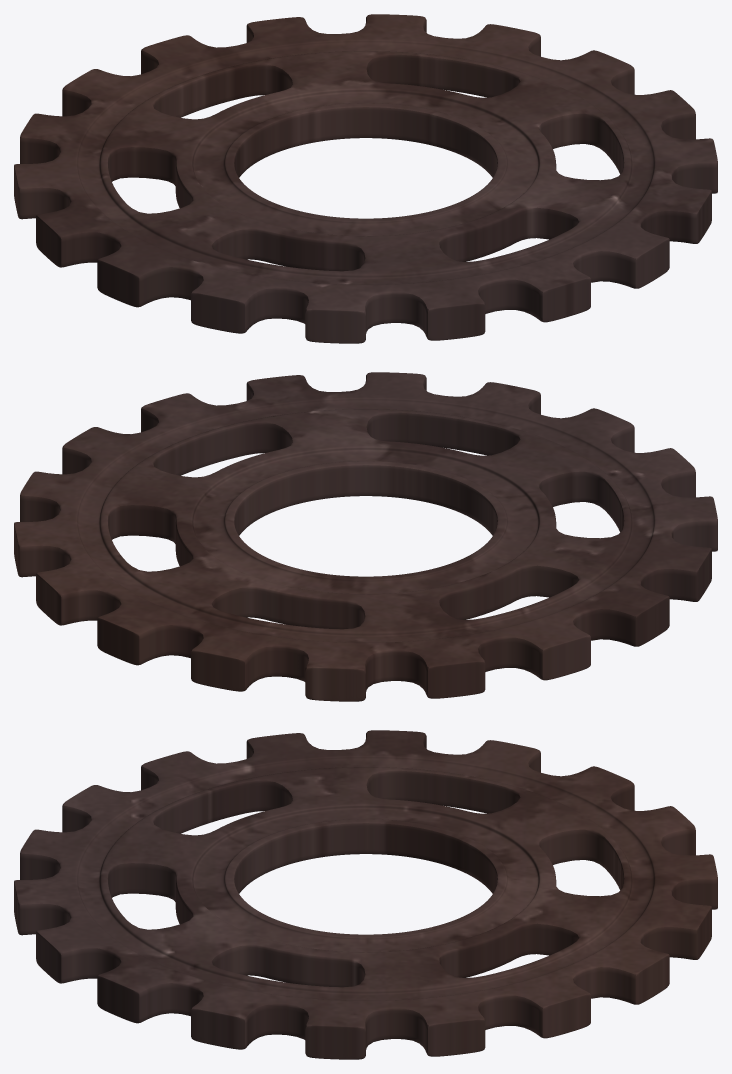
File: gear4.fbx
3 views of the same model, one above another, from view 1: azimuth 30°, elevation 25°; view 2: azimuth 150°, elevation 25°; view 3: azimuth 270°, elevation 25° (orthographic).
Parts seen in each view (by area): view 1: gear4; view 2: gear4; view 3: gear4.
Boxes of the visible parts, x1,y1,x2,y2 form: gear4: [14, 14, 717, 343]; gear4: [14, 372, 717, 701]; gear4: [14, 730, 717, 1059].
Bounding box in the file's own units: 12.34 × 0.6488 × 12.34.
